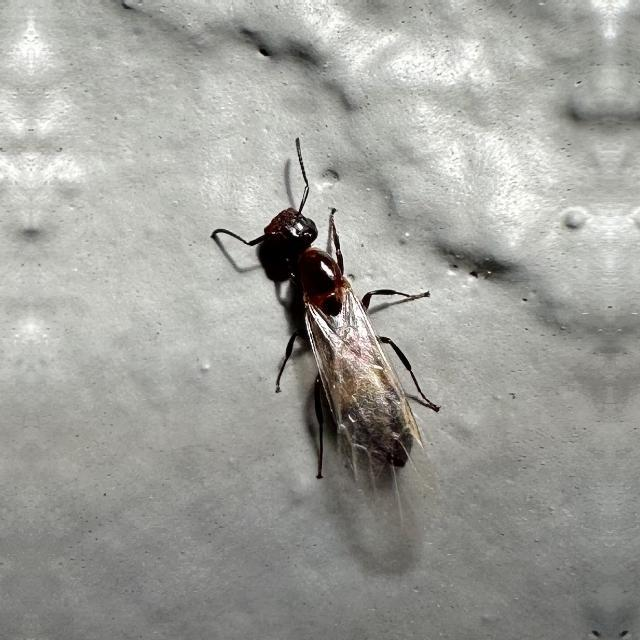Colobopsis: (221, 158, 454, 506)
